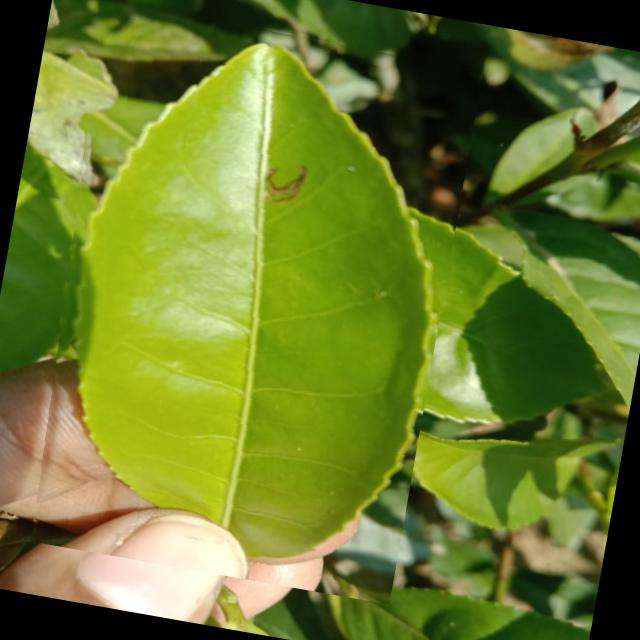Category B(2-4 days): (10, 0, 483, 604)
